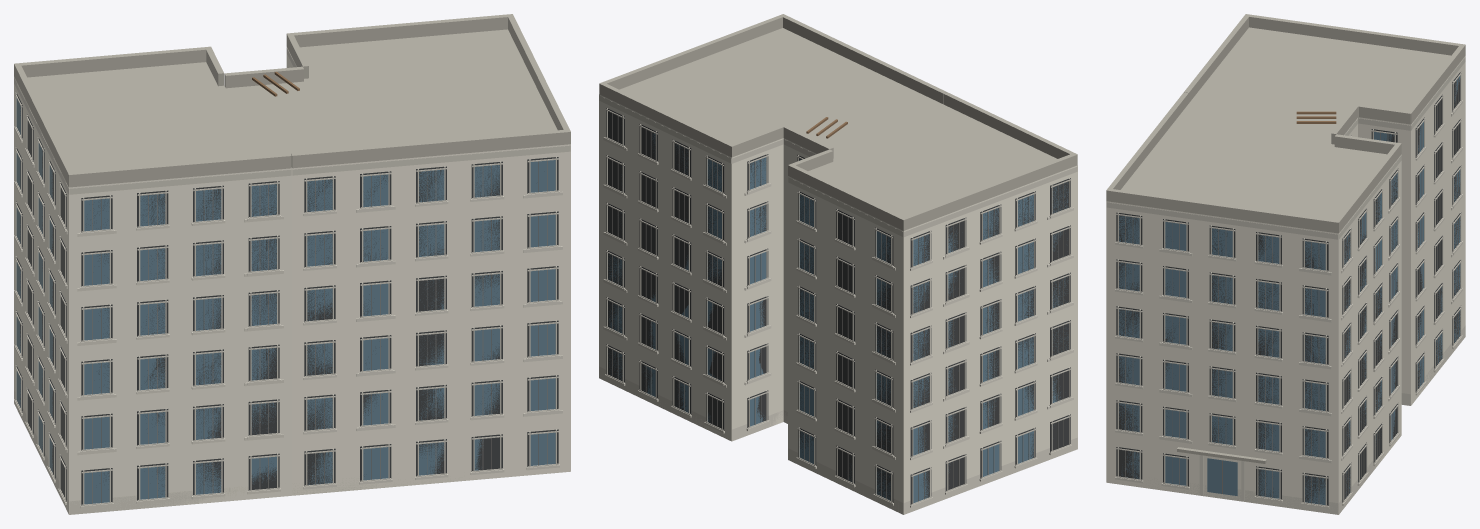
File: cop_hotel_classico_05__way_1041988853.fbx
The picture shows the model from 3 angles, left to right: view 1: azimuth 30°, elevation 25°; view 2: azimuth 150°, elevation 25°; view 3: azimuth 270°, elevation 25°; orthographic projection. The views are drawn at different scales.
Visible parts, largest first — view 1: cop_hotel_classico_05__way_1041988853_wall, cop_hotel_classico_05__way_1041988853_roof, cop_hotel_classico_05__way_1041988853_glass, cop_hotel_classico_05__way_1041988853_shadow, cop_hotel_classico_05__way_1041988853_trim, cop_hotel_classico_05__way_1041988853_stone, cop_hotel_classico_05__way_1041988853_metal; view 2: cop_hotel_classico_05__way_1041988853_wall, cop_hotel_classico_05__way_1041988853_roof, cop_hotel_classico_05__way_1041988853_shadow, cop_hotel_classico_05__way_1041988853_glass, cop_hotel_classico_05__way_1041988853_trim, cop_hotel_classico_05__way_1041988853_stone, cop_hotel_classico_05__way_1041988853_metal; view 3: cop_hotel_classico_05__way_1041988853_wall, cop_hotel_classico_05__way_1041988853_roof, cop_hotel_classico_05__way_1041988853_glass, cop_hotel_classico_05__way_1041988853_shadow, cop_hotel_classico_05__way_1041988853_trim, cop_hotel_classico_05__way_1041988853_stone, cop_hotel_classico_05__way_1041988853_metal.
Part boxes in pixels (x1,y1,x2,y2): cop_hotel_classico_05__way_1041988853_wall: [14, 46, 570, 514]; cop_hotel_classico_05__way_1041988853_roof: [14, 14, 570, 187]; cop_hotel_classico_05__way_1041988853_glass: [16, 98, 555, 504]; cop_hotel_classico_05__way_1041988853_shadow: [16, 92, 558, 505]; cop_hotel_classico_05__way_1041988853_trim: [14, 47, 570, 505]; cop_hotel_classico_05__way_1041988853_stone: [14, 126, 569, 514]; cop_hotel_classico_05__way_1041988853_metal: [17, 100, 547, 503]; cop_hotel_classico_05__way_1041988853_wall: [599, 94, 1077, 514]; cop_hotel_classico_05__way_1041988853_roof: [599, 14, 1077, 230]; cop_hotel_classico_05__way_1041988853_shadow: [606, 108, 1070, 504]; cop_hotel_classico_05__way_1041988853_glass: [608, 132, 1068, 503]; cop_hotel_classico_05__way_1041988853_trim: [599, 95, 1077, 505]; cop_hotel_classico_05__way_1041988853_stone: [599, 137, 1077, 514]; cop_hotel_classico_05__way_1041988853_metal: [612, 113, 1063, 501]; cop_hotel_classico_05__way_1041988853_wall: [1106, 56, 1465, 514]; cop_hotel_classico_05__way_1041988853_roof: [1106, 14, 1465, 463]; cop_hotel_classico_05__way_1041988853_glass: [1119, 76, 1460, 505]; cop_hotel_classico_05__way_1041988853_shadow: [1116, 72, 1461, 505]; cop_hotel_classico_05__way_1041988853_trim: [1106, 57, 1465, 506]; cop_hotel_classico_05__way_1041988853_stone: [1112, 100, 1465, 514]; cop_hotel_classico_05__way_1041988853_metal: [1125, 78, 1458, 504].
Size of the model in its own units: 2864 by 1877 by 2083.
